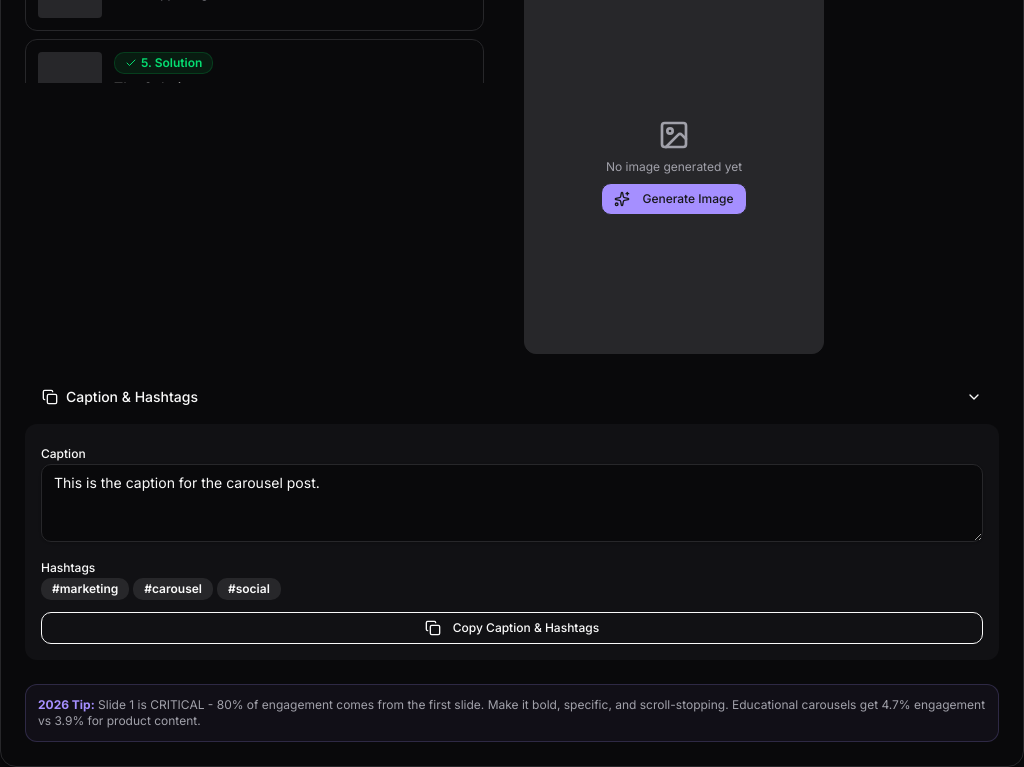
CarouselBuilder - Preview & Export › copies caption and hashtags to clipboard
The image size is (1024, 767).
(page scrolled)
Find and click the copy caption button
Click the button "Copy Caption & Hashtags" at [512, 628], box [41,612,983,644]
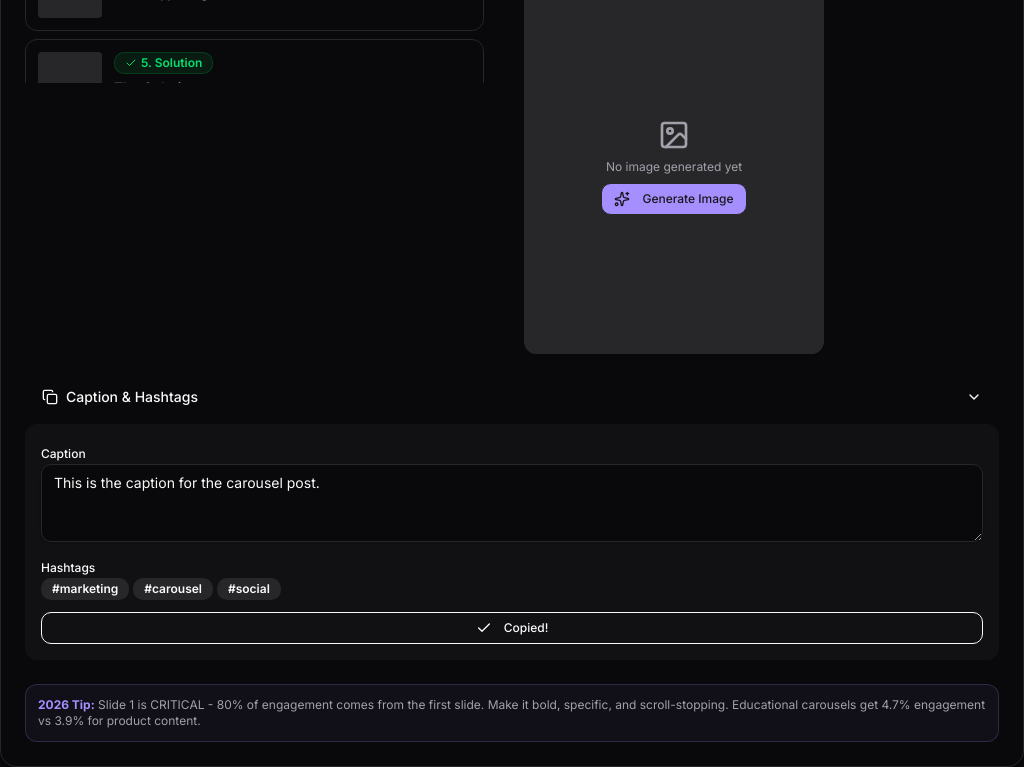
Expected: the button "Copied!" is shown, [41,612,983,644]
